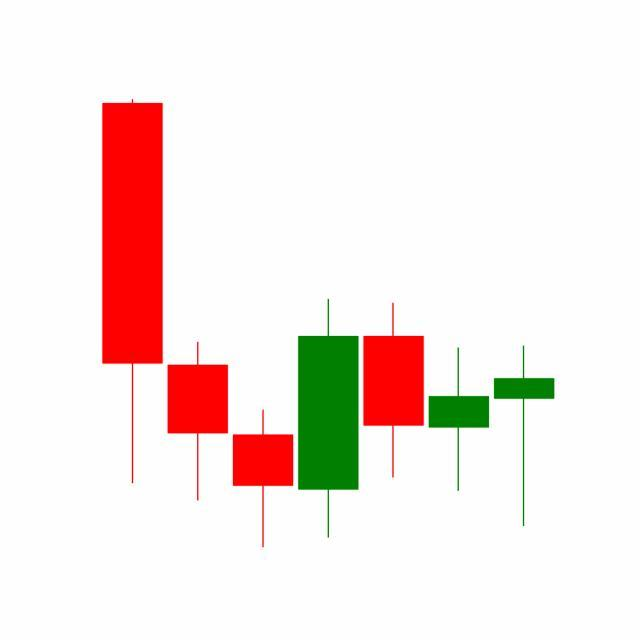Hikkake Pattern: (165, 296, 492, 549)
